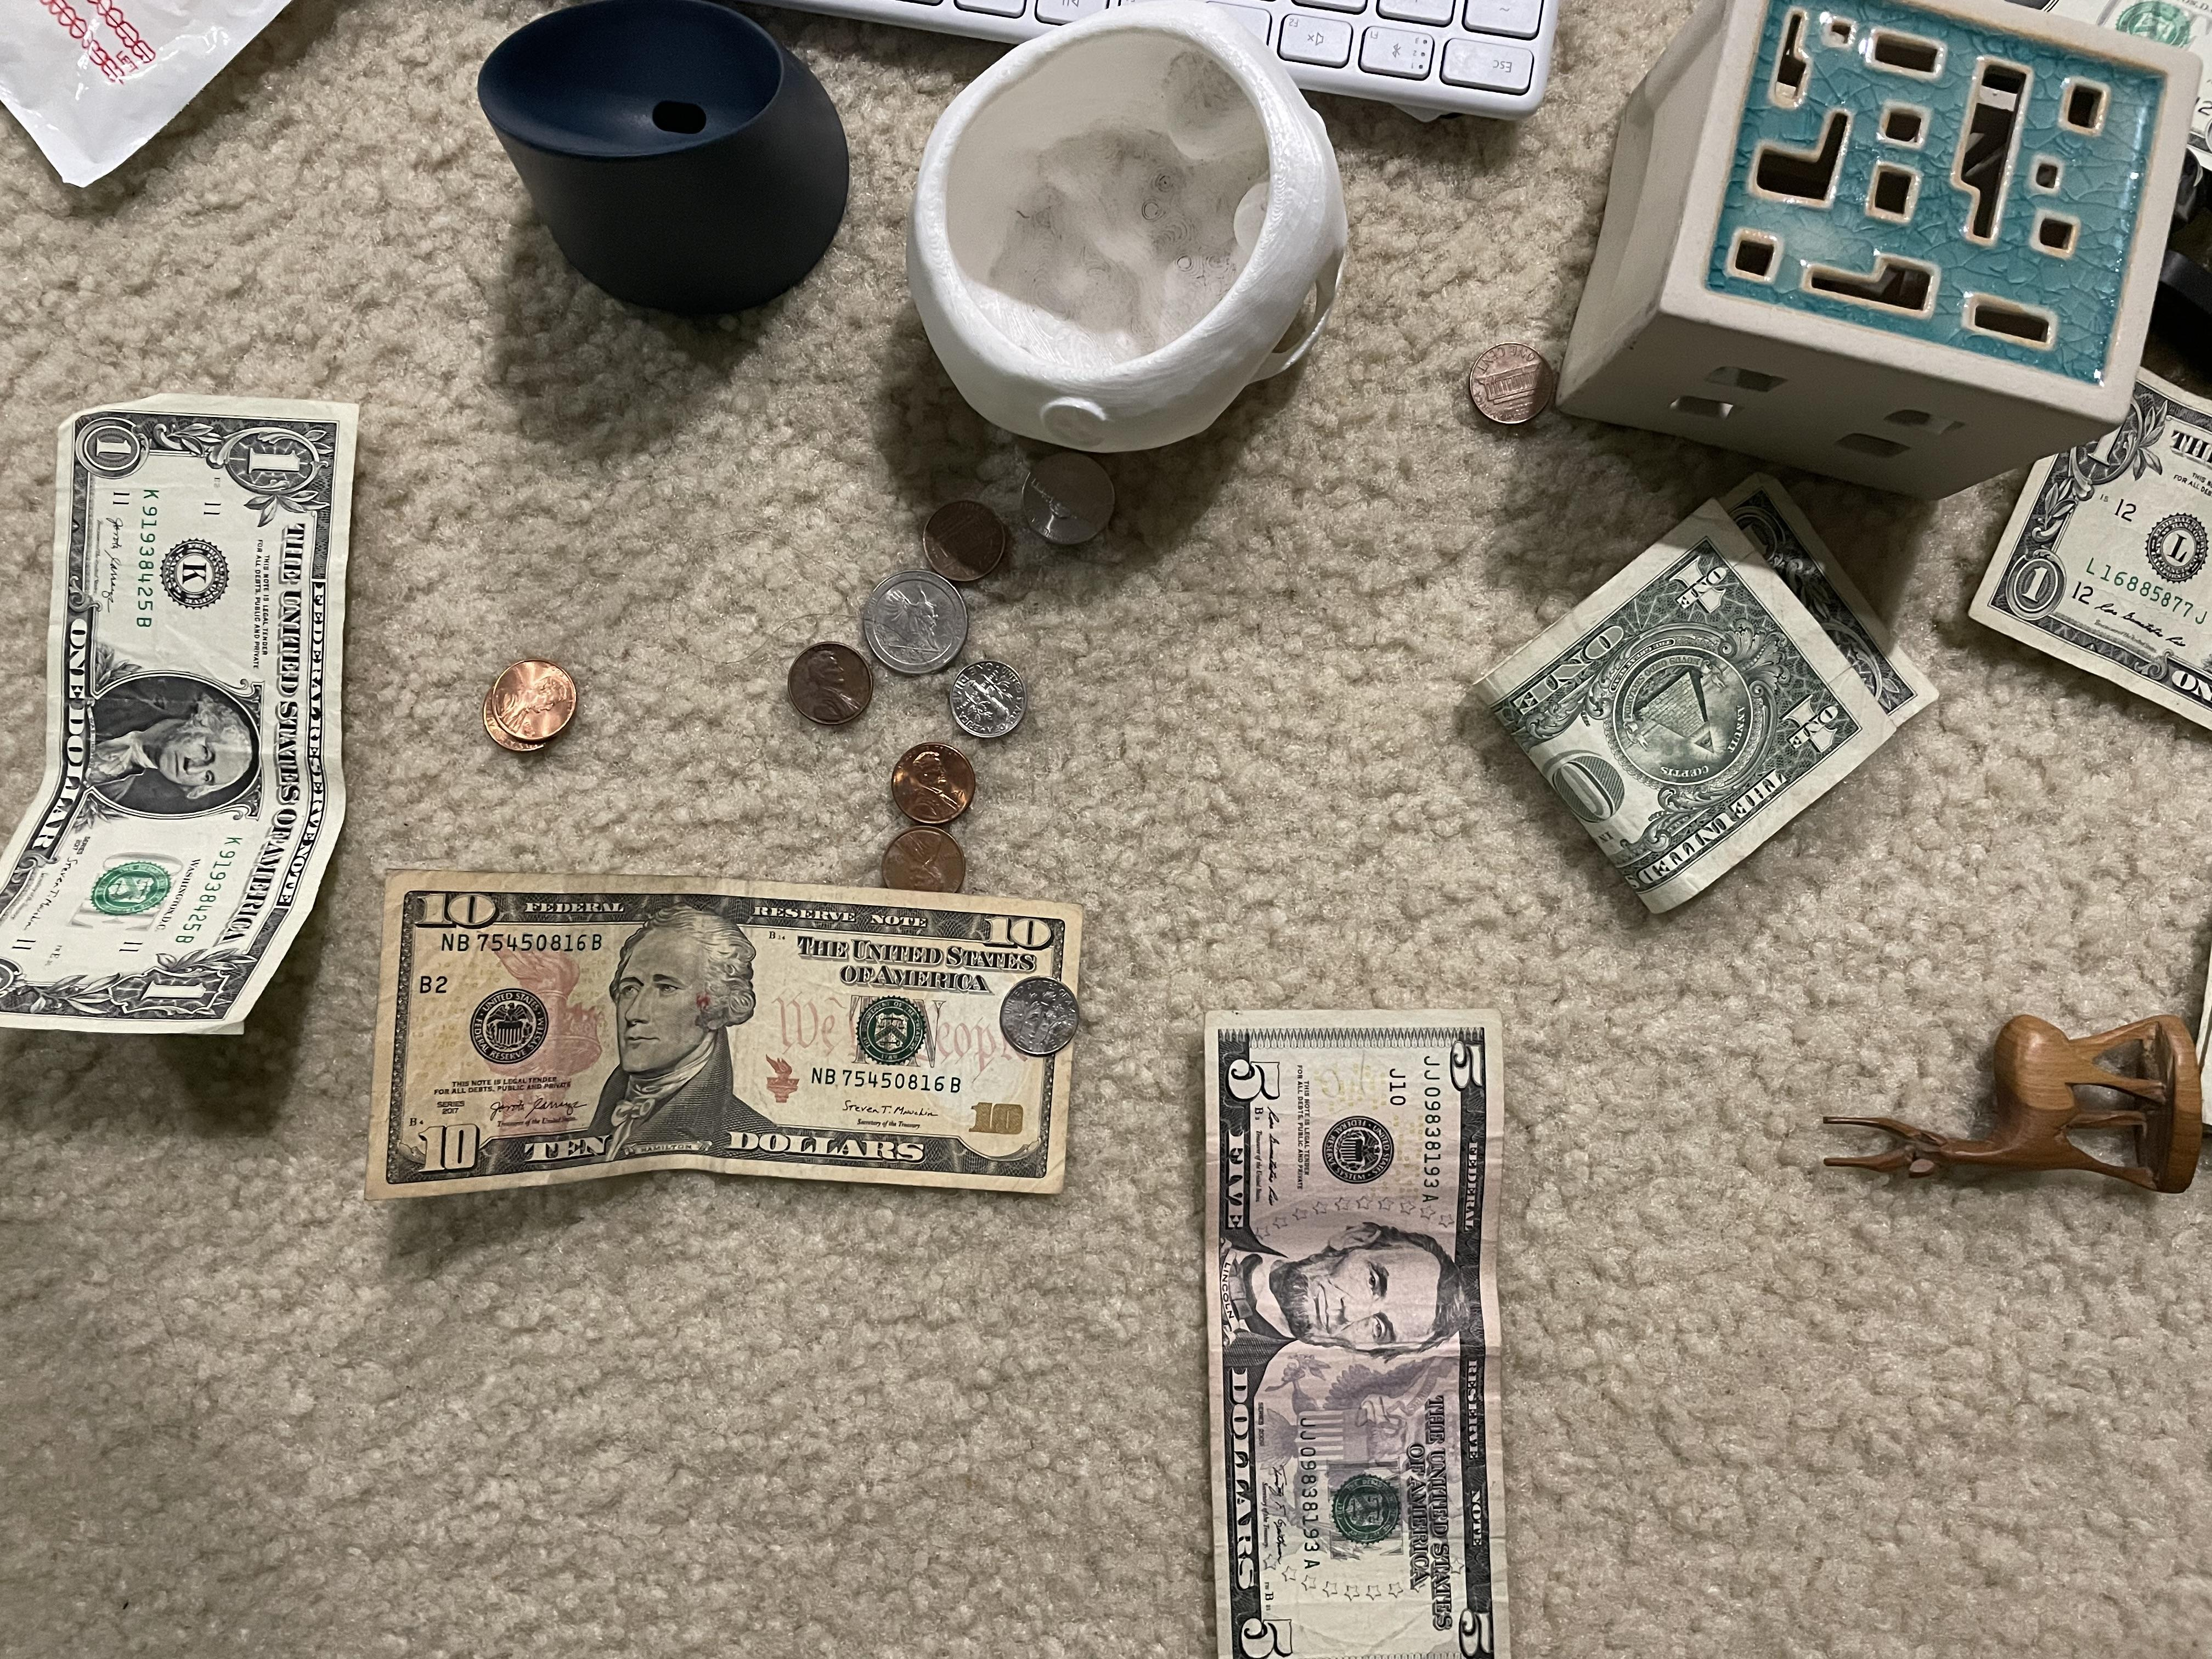Dime: (948, 660, 1033, 746)
FiveBill: (1193, 1000, 1533, 1656)
Nickel: (1015, 443, 1127, 556)
OneBill: (3, 394, 354, 1049), (1479, 465, 1935, 924), (1970, 352, 2210, 706)
Penny: (470, 653, 583, 749), (1460, 338, 1561, 437), (916, 502, 1015, 591), (782, 638, 876, 727), (881, 746, 982, 826), (873, 824, 972, 896)
Quarter: (867, 575, 974, 673)
TenBill: (369, 868, 1085, 1237)
